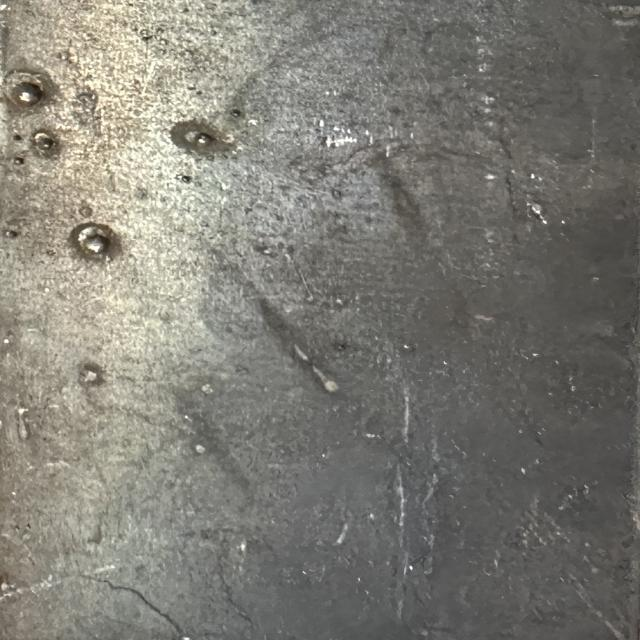Spatters: (79, 226, 110, 256), (11, 82, 43, 107), (527, 202, 549, 225), (185, 131, 217, 145), (37, 139, 53, 151), (12, 157, 27, 166), (332, 188, 343, 200), (4, 230, 18, 238), (484, 174, 498, 181), (230, 109, 240, 118), (12, 134, 23, 141), (181, 175, 190, 183), (521, 467, 526, 475), (570, 386, 576, 392), (532, 353, 540, 357), (535, 458, 540, 464), (518, 429, 524, 434), (403, 344, 409, 349), (530, 173, 535, 179), (561, 220, 566, 225), (511, 169, 516, 174), (409, 565, 413, 571), (548, 392, 554, 396), (338, 346, 344, 350), (302, 570, 306, 575), (357, 577, 361, 582), (365, 591, 370, 595), (537, 431, 542, 435), (568, 377, 573, 381), (599, 403, 603, 408), (443, 361, 448, 365), (482, 452, 486, 456), (555, 360, 559, 364), (541, 428, 546, 431), (574, 406, 578, 409), (625, 396, 630, 398), (589, 406, 594, 408), (588, 394, 593, 396), (586, 401, 589, 404)
